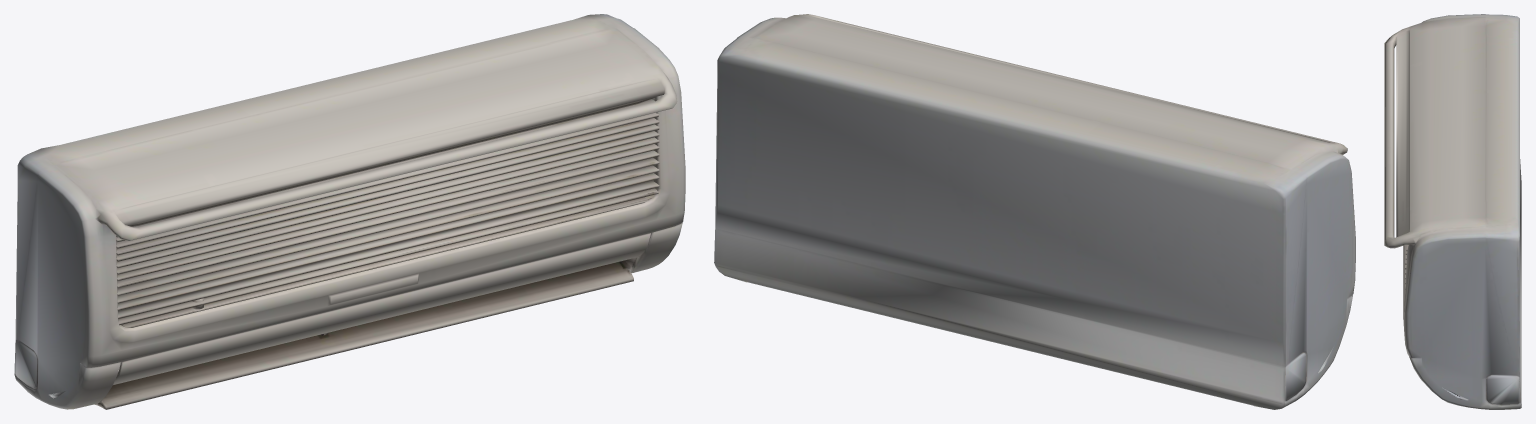
Rendered from air_conditioner_interior_93f16672_v2.glb.
The picture shows the model from 3 angles, left to right: view 1: azimuth 30°, elevation 25°; view 2: azimuth 150°, elevation 25°; view 3: azimuth 270°, elevation 25°; orthographic projection. The views are drawn at different scales.
Parts seen in each view (by area): view 1: material; view 2: material; view 3: material.
Boxes of the visible parts, box(x1,y1,x2,y2) form: material: box(14, 14, 685, 409); material: box(714, 14, 1355, 409); material: box(1384, 14, 1521, 409).
Size of the model in its own units: 1.9 by 0.7196 by 0.4941.
Materials: 1 (1 with a texture image).
